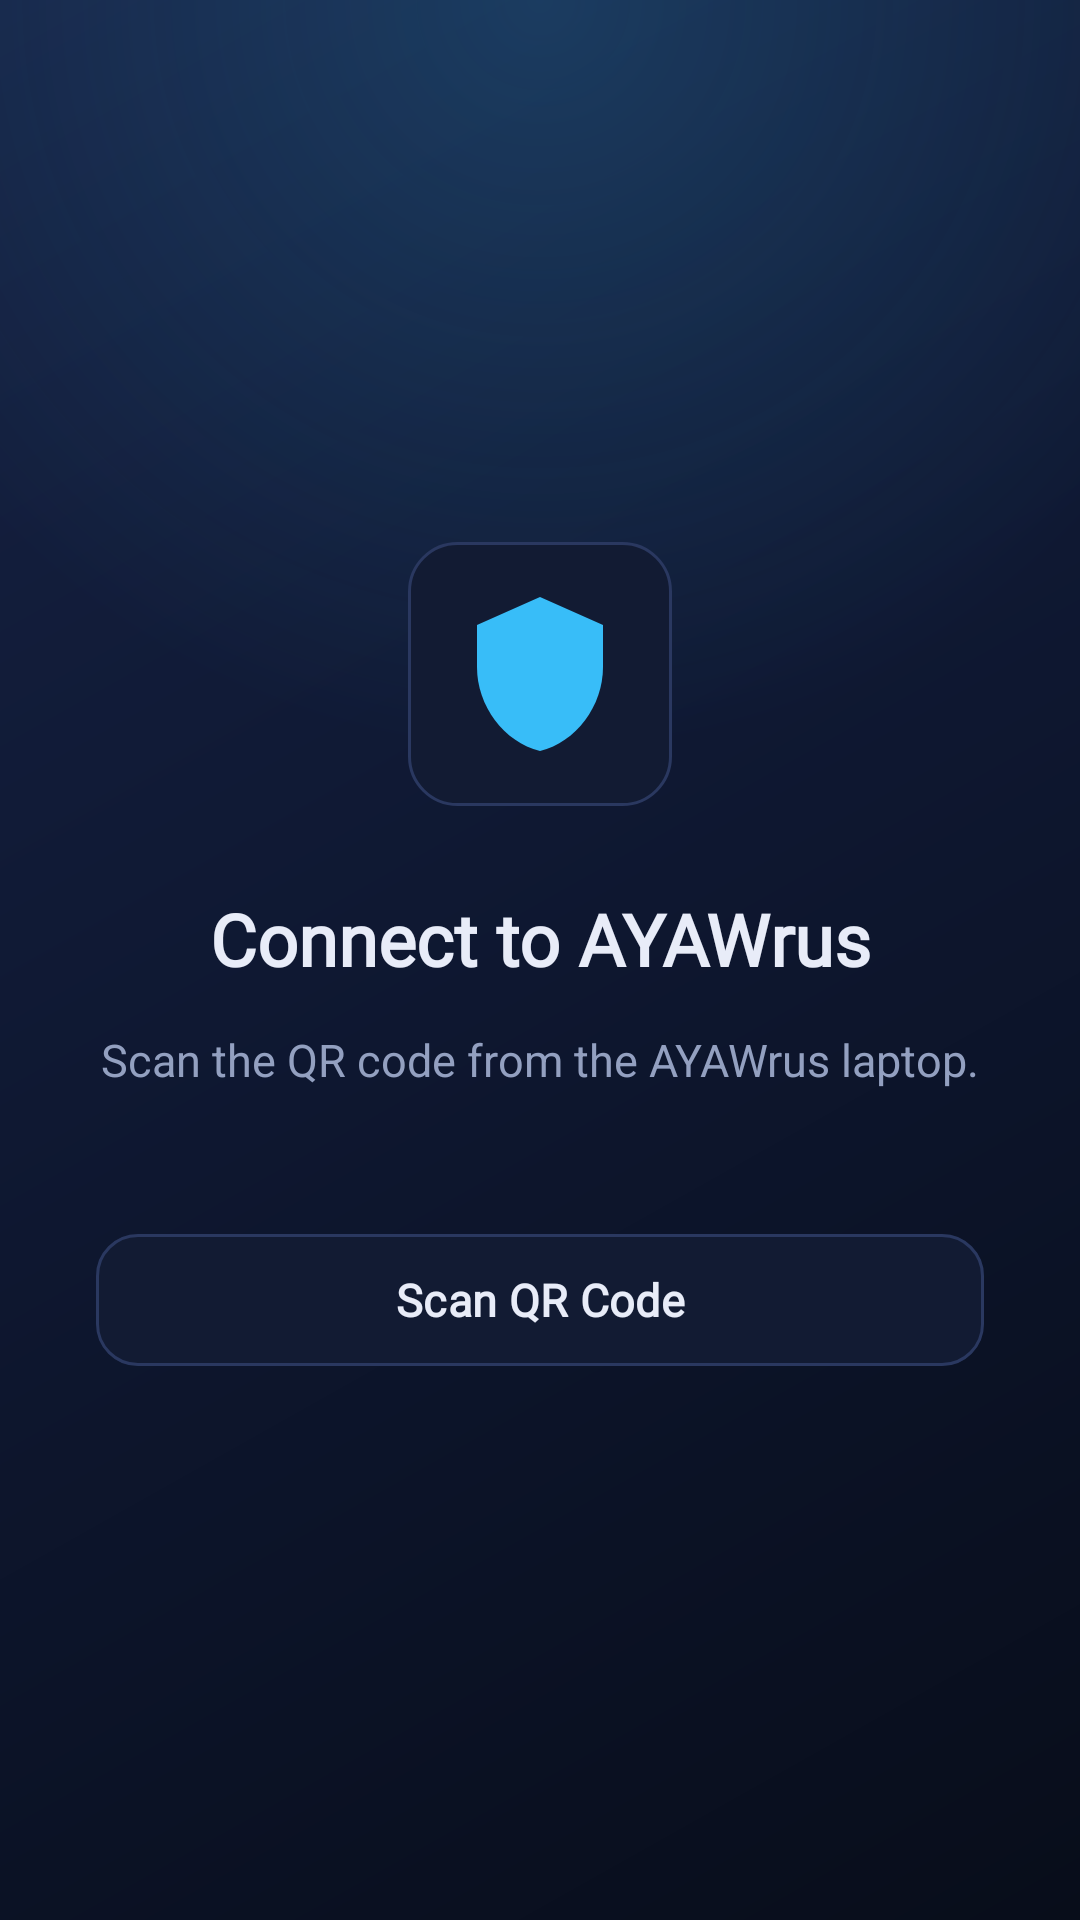

Where to tap for icons on this 1080px x 1920px app screen, as [x,y]:
AYAWrus shield: [540,674]
